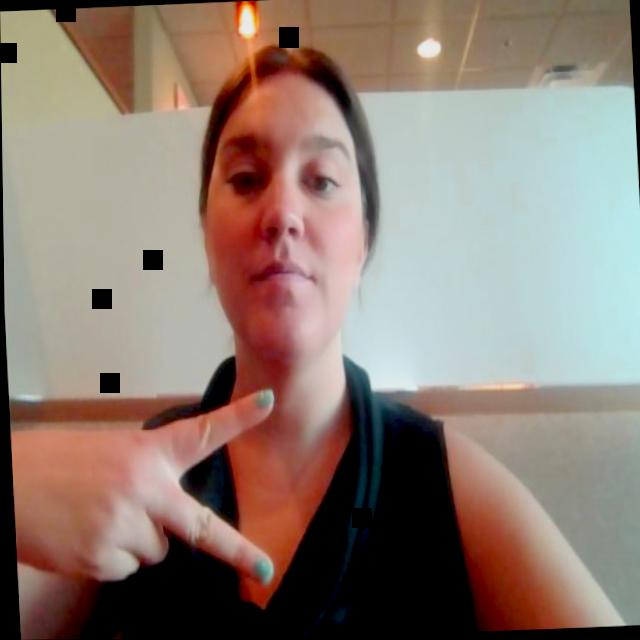Scissors: (21, 362, 304, 612)
